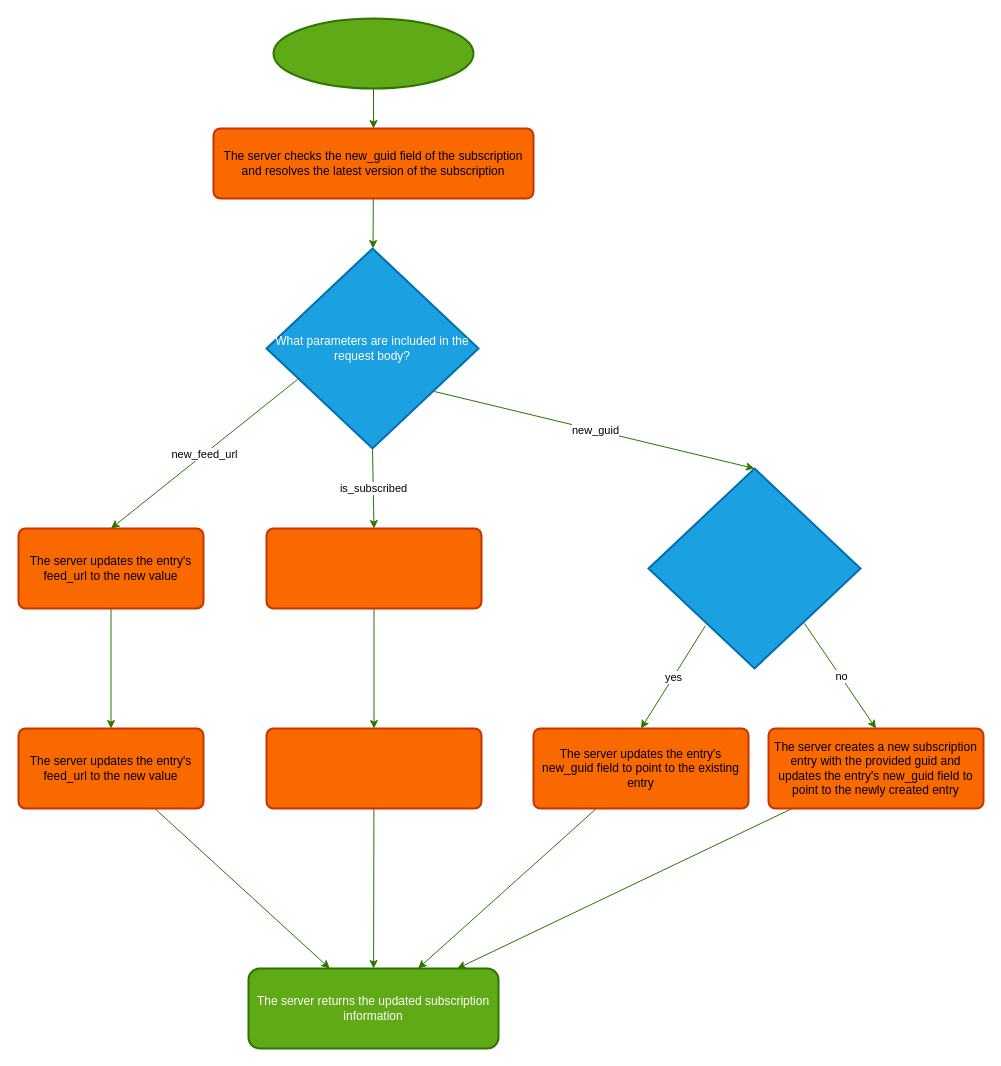
Some shapes in this 1001 by 1066 pixel diagram are drawn without their labels. Here are the shapes that lost their labels. From the top down, the box of each, then its label:
(272, 17, 474, 89): The server receives a PATCH request
(265, 527, 482, 609): The server updates the entry's is_subscribed field to match the provided value
(647, 467, 861, 669): Is there an entry with a matching guid?
(265, 727, 482, 809): The server updates the entry's subscription_changed to the current date
